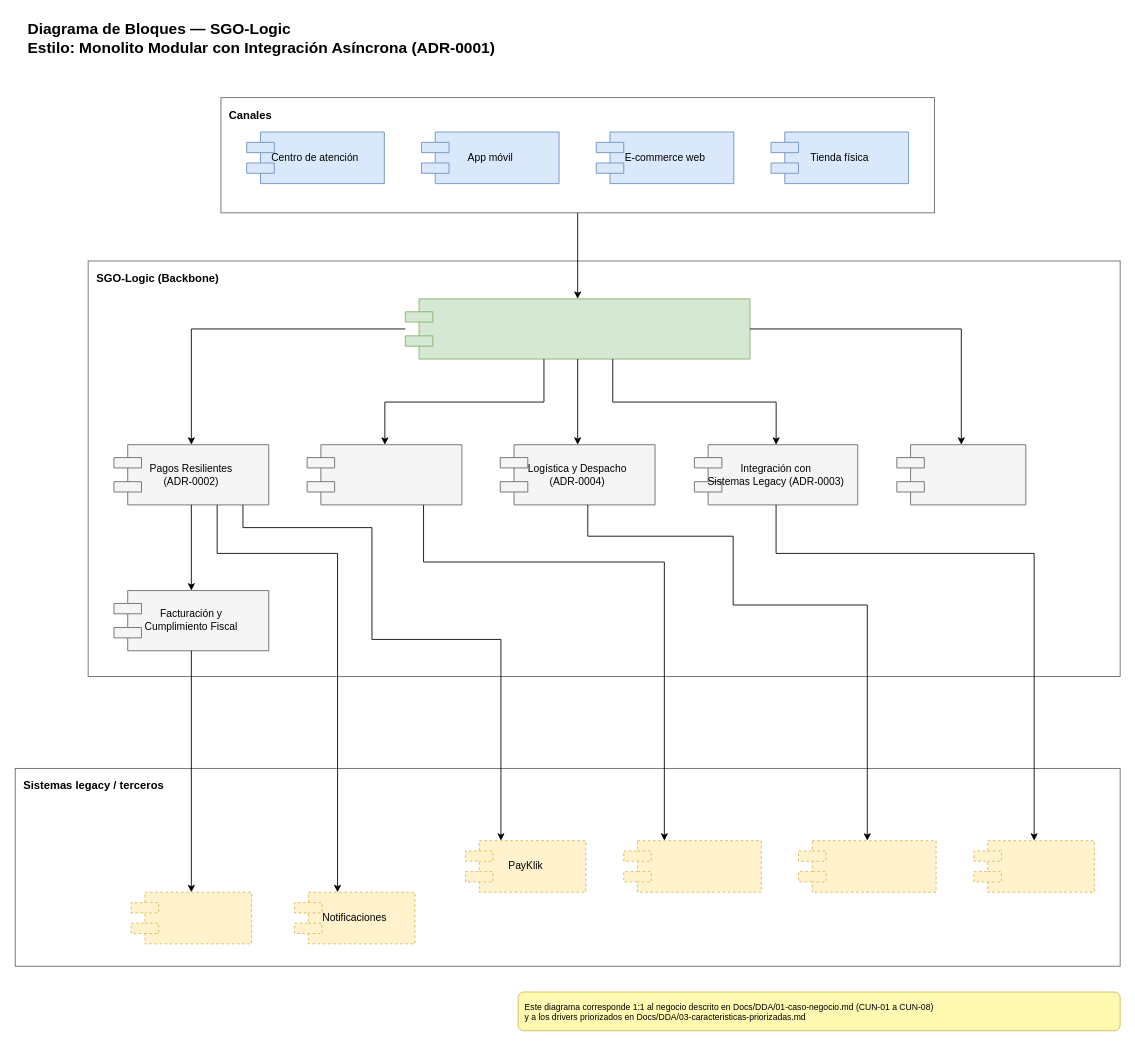
The diagram is 1135 pixels wide and 1046 high, and some of its shapes have lost their labels. The centre of each missing label's shape, as x and y in pixels:
Auditoría y Trazabilidad: (x=961, y=474)
ERP-Core: (x=1033, y=866)
Inventario Centralizado: (x=384, y=474)
LogiExpress: (x=867, y=866)
Orquestación de Compra Omnicanal: (x=577, y=328)
POS (x32 tiendas): (x=692, y=866)
SAT: (x=191, y=917)
